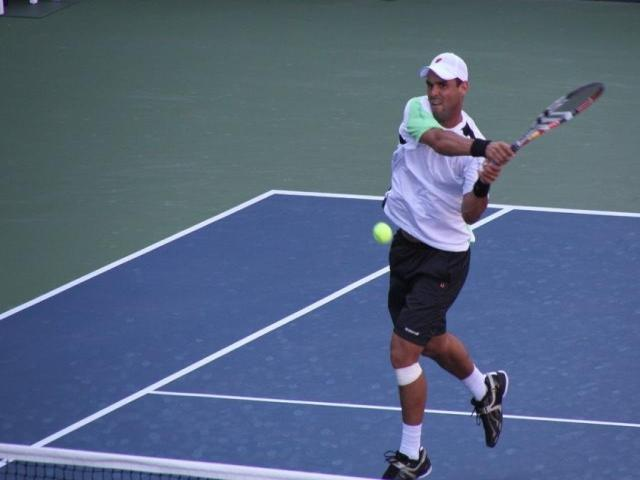tennis-ball: (372, 222, 393, 244)
